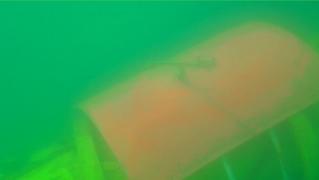leak: (77, 20, 319, 180)
pipe: (182, 100, 319, 179), (1, 119, 126, 180), (300, 33, 319, 56)
